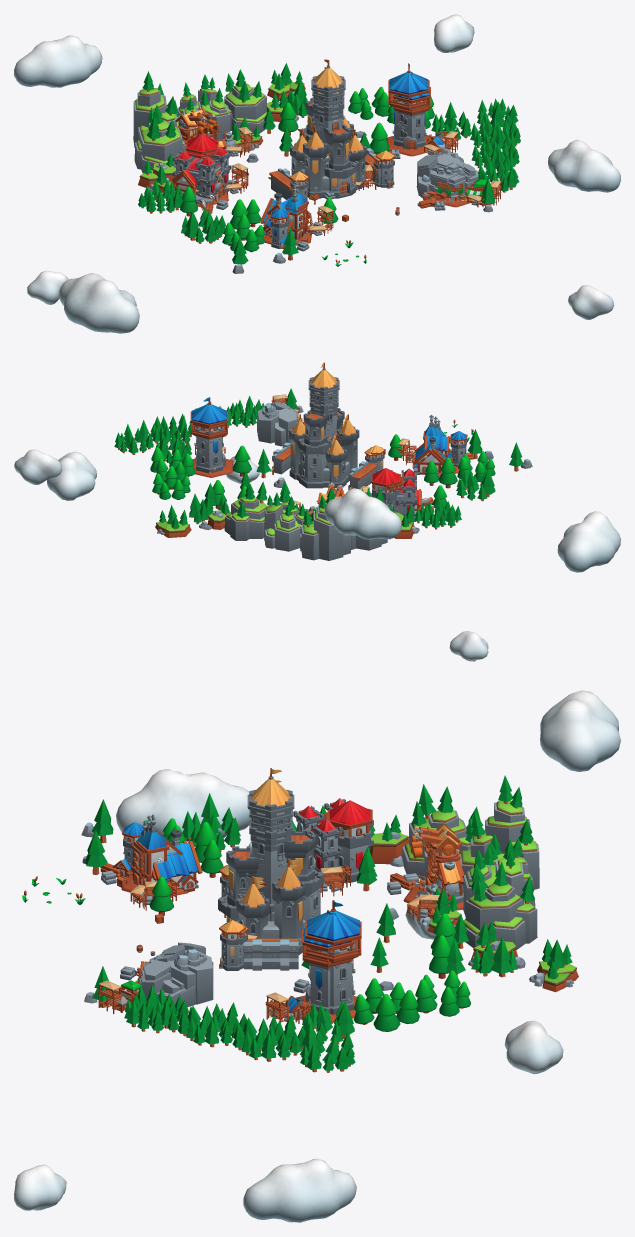
The model's file is kingdom.glb.
The picture shows the model from 3 angles, top to bottom: view 1: azimuth 30°, elevation 25°; view 2: azimuth 150°, elevation 25°; view 3: azimuth 270°, elevation 25°; orthographic projection. The views are drawn at different scales.
Visible parts, largest first — view 1: cloud_big (×3), building_castle_yellow (×2), trees_A_large (×4), mountain_A_grass_trees (×2), cloud_small (×3), trees_A_medium (×3), building_mine_green (×3), building_scaffolding (×4), building_barracks_red, trees_B_medium (×2), building_tower_B_top_blue (×2), mountain_C_grass_trees (+8 smaller); view 2: cloud_big (×3), building_castle_yellow (×2), trees_A_large (×3), trees_B_medium (×3), mountain_A_grass_trees (×2), trees_A_medium (×3), mountain_B_grass_trees, cloud_small (×2), mountain_C_grass_trees, building_mine_green, building_tower_B_top_blue, building_tower_B_blue (+7 smaller); view 3: cloud_big (×3), building_castle_yellow (×2), mountain_A_grass_trees (×2), trees_A_large (×3), trees_A_medium (×3), cloud_small (×2), trees_B_medium (×2), mountain_B_grass_trees, building_mine_green (×2), building_tower_B_top_blue (×2), building_church_blue, hills_B_trees (×2) (+10 smaller).
Part boxes in pixels (box(x1,y1,x2,y2)): cloud_big (×3): box(14, 35, 620, 333); building_castle_yellow (×2): box(290, 59, 366, 198); trees_A_large (×4): box(138, 118, 520, 213); mountain_A_grass_trees (×2): box(134, 69, 267, 172); cloud_small (×3): box(27, 14, 614, 319); trees_A_medium (×3): box(181, 98, 518, 243); building_mine_green (×3): box(416, 149, 478, 204); building_scaffolding (×4): box(219, 127, 458, 235); building_barracks_red: box(172, 146, 231, 201); trees_B_medium (×2): box(222, 86, 389, 252); building_tower_B_top_blue (×2): box(388, 63, 430, 114); mountain_C_grass_trees: box(177, 74, 230, 140); cloud_big (×3): box(47, 451, 620, 572); building_castle_yellow (×2): box(289, 362, 359, 488); trees_A_large (×3): box(150, 396, 461, 529); trees_B_medium (×3): box(150, 447, 495, 499); mountain_A_grass_trees (×2): box(224, 481, 387, 550); trees_A_medium (×3): box(114, 420, 495, 501); mountain_B_grass_trees: box(300, 487, 350, 560); cloud_small (×2): box(14, 449, 488, 661); mountain_C_grass_trees: box(264, 489, 304, 551); building_mine_green: box(257, 402, 304, 446); building_tower_B_top_blue: box(190, 397, 228, 438); building_tower_B_blue: box(195, 426, 226, 473); cloud_big (×3): box(116, 690, 620, 1222); building_castle_yellow (×2): box(218, 768, 324, 954); mountain_A_grass_trees (×2): box(402, 784, 537, 949); trees_A_large (×3): box(124, 985, 305, 1061); trees_A_medium (×3): box(182, 793, 355, 1072); cloud_small (×2): box(14, 1020, 563, 1210); trees_B_medium (×2): box(353, 970, 470, 1031); mountain_B_grass_trees: box(460, 775, 539, 889); building_mine_green (×2): box(136, 942, 213, 1006); building_tower_B_top_blue (×2): box(302, 900, 361, 967); building_church_blue: box(137, 814, 202, 893); hills_B_trees (×2): box(418, 887, 578, 992).
Bounding box in the file's own units: 27.88 × 10.93 × 18.5.
1 material, 1 textured.
